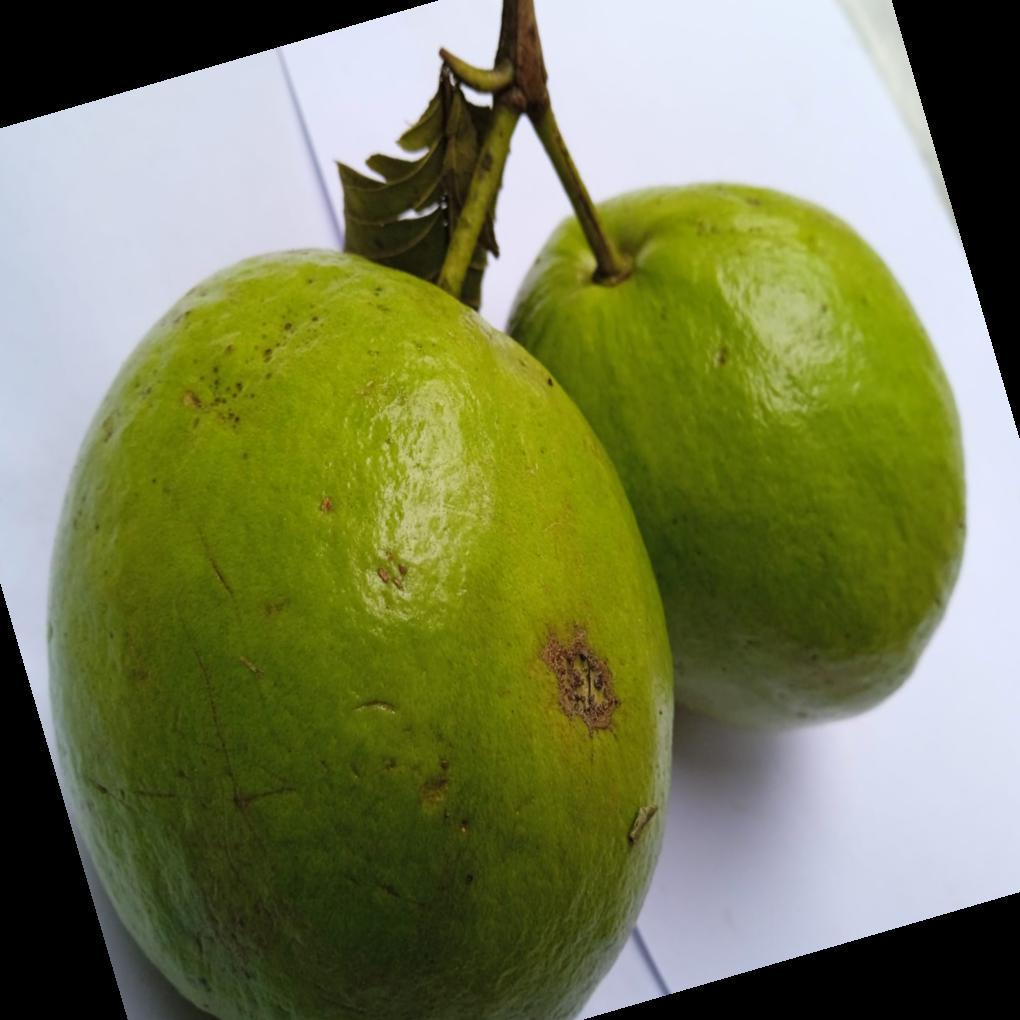FreshGuava: (33, 71, 970, 1020)
